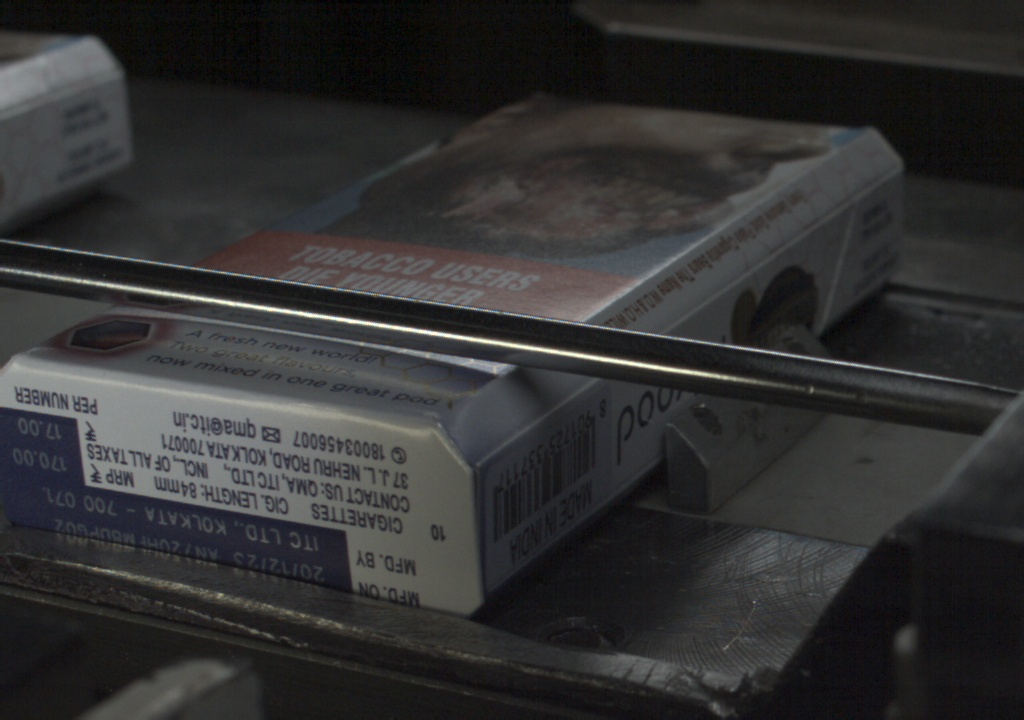g_bottom: (1, 355, 471, 618)
g_label: (1, 478, 350, 589)
g_lmiter: (771, 204, 863, 274), (674, 274, 767, 339), (528, 382, 591, 430), (476, 422, 533, 469)
g_miter: (868, 167, 913, 202)
price: (1, 412, 83, 479)
